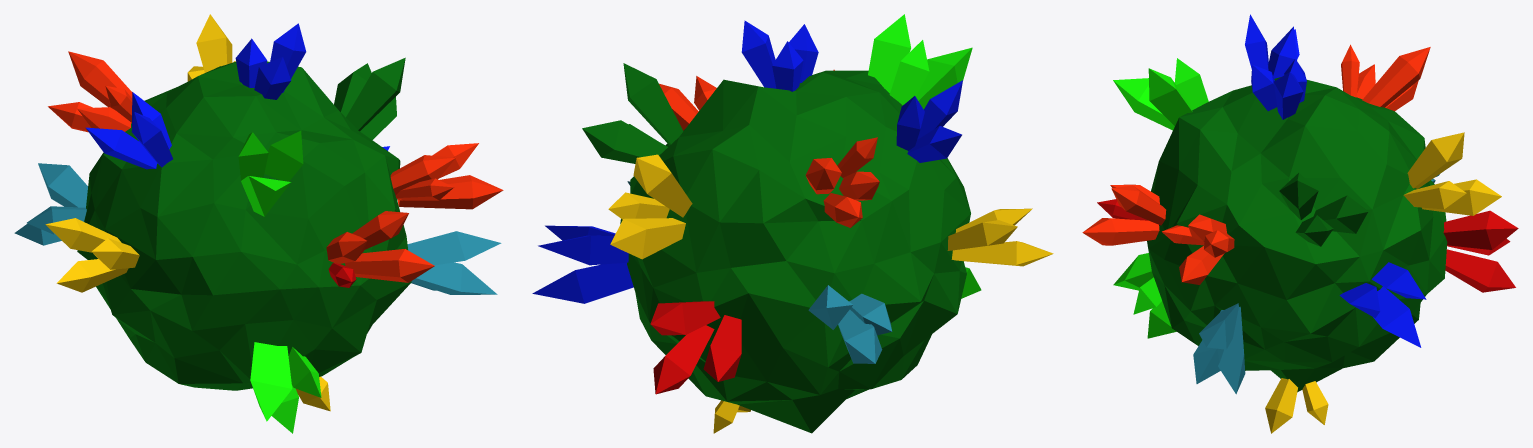
The model's file is Funny crystal planet.FBX.
3 views of the same model, side by side, from view 1: azimuth 30°, elevation 25°; view 2: azimuth 150°, elevation 25°; view 3: azimuth 270°, elevation 25° (orthographic). The views are drawn at different scales.
Visible parts, largest first — view 1: GeoSphere002; view 2: GeoSphere002; view 3: GeoSphere002.
Boxes of the visible parts, box(x1,y1,x2,y2) form: GeoSphere002: box(14, 14, 503, 433); GeoSphere002: box(532, 14, 1053, 433); GeoSphere002: box(1082, 14, 1518, 433).
Bounding box in the file's own units: 246 × 213 × 240.
